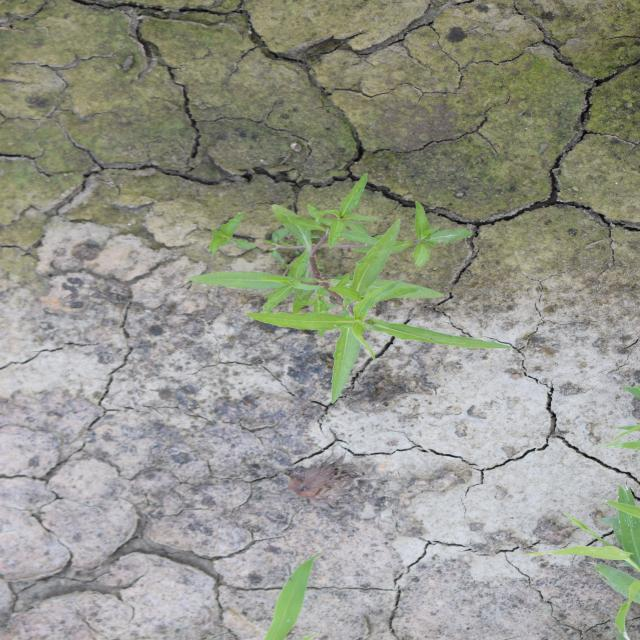Eclipta: (182, 170, 514, 406)
